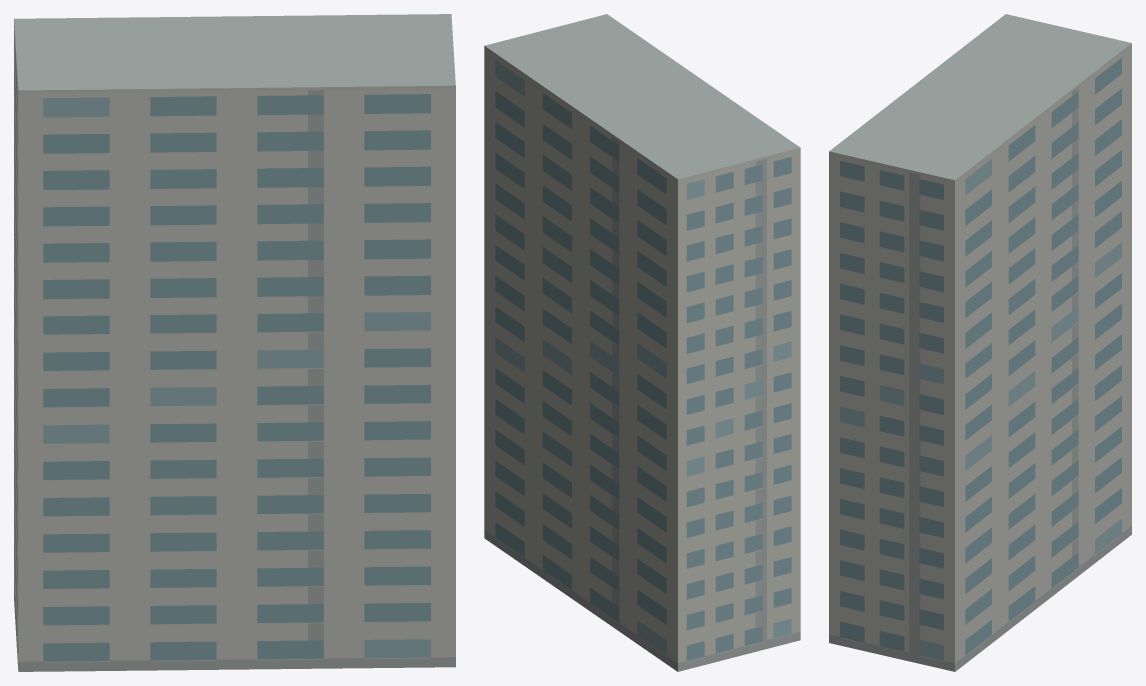
Rendered from residential-44279cc7-46f4-4d17-bafa-a0ac276c7d97.glb.
3 renders of one model, left to right at view 1: azimuth 30°, elevation 25°; view 2: azimuth 150°, elevation 25°; view 3: azimuth 270°, elevation 25°, orthographic. The views are drawn at different scales.
Visible parts, largest first — view 1: residential-44279cc7-46f4-4d17-bafa-a0ac276c7d97.tmp; view 2: residential-44279cc7-46f4-4d17-bafa-a0ac276c7d97.tmp; view 3: residential-44279cc7-46f4-4d17-bafa-a0ac276c7d97.tmp.
Part boxes in pixels (left/top/right/bottom): residential-44279cc7-46f4-4d17-bafa-a0ac276c7d97.tmp: left=14, top=14, right=455, bottom=671; residential-44279cc7-46f4-4d17-bafa-a0ac276c7d97.tmp: left=484, top=14, right=800, bottom=671; residential-44279cc7-46f4-4d17-bafa-a0ac276c7d97.tmp: left=829, top=14, right=1131, bottom=671.
Size of the model in its own units: 34.84 by 48 by 26.81.
